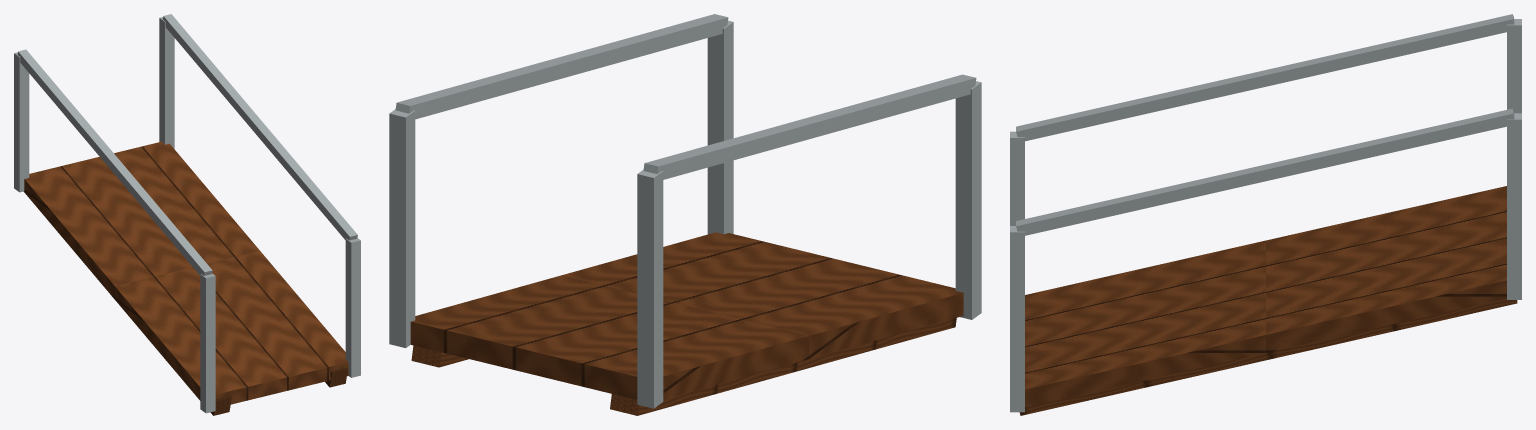
File: modular-survival-base-builder-wheelbarrow-ramp-566a3821__24196.glb
The picture shows the model from 3 angles, left to right: view 1: azimuth 30°, elevation 25°; view 2: azimuth 150°, elevation 25°; view 3: azimuth 270°, elevation 25°; orthographic projection. The views are drawn at different scales.
Parts seen in each view (by area): view 1: wheelbarrow-ramp; view 2: wheelbarrow-ramp; view 3: wheelbarrow-ramp.
Boxes of the visible parts, x1,y1,x2,y2 form: wheelbarrow-ramp: [14, 14, 360, 415]; wheelbarrow-ramp: [389, 14, 981, 415]; wheelbarrow-ramp: [1010, 14, 1521, 415].
Bounding box in the file's own units: 0.9599 × 1.37 × 2.06.
2 materials, 1 textured.
